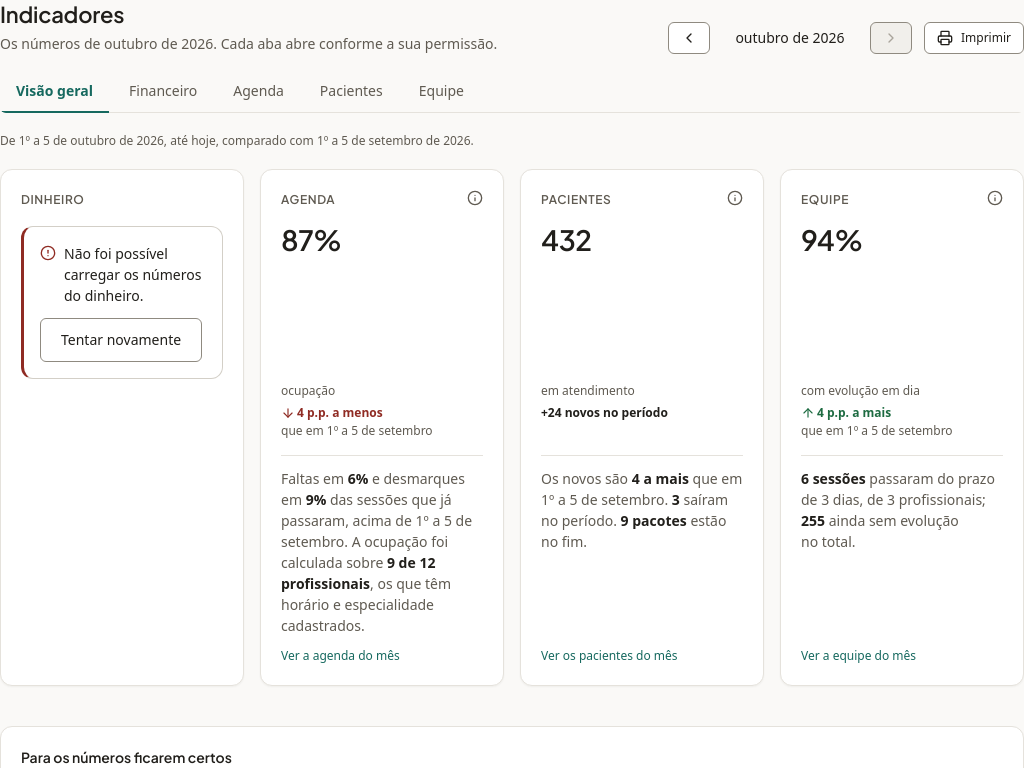
Test: Visão geral — linha do período, quatro cartões, tendência e "Pede atenção" › deve isolar o erro de um cartão, com tentar de novo, sem derrubar os outros
Expected: the text "Não foi possível carregar os números do dinheiro." is shown, x1=64 y1=243 x2=206 y2=306
Expected: the text "87%" is shown, x1=281 y1=222 x2=342 y2=257
Click the button "Tentar novamente" at (121, 340), box x1=40 y1=318 x2=202 y2=362
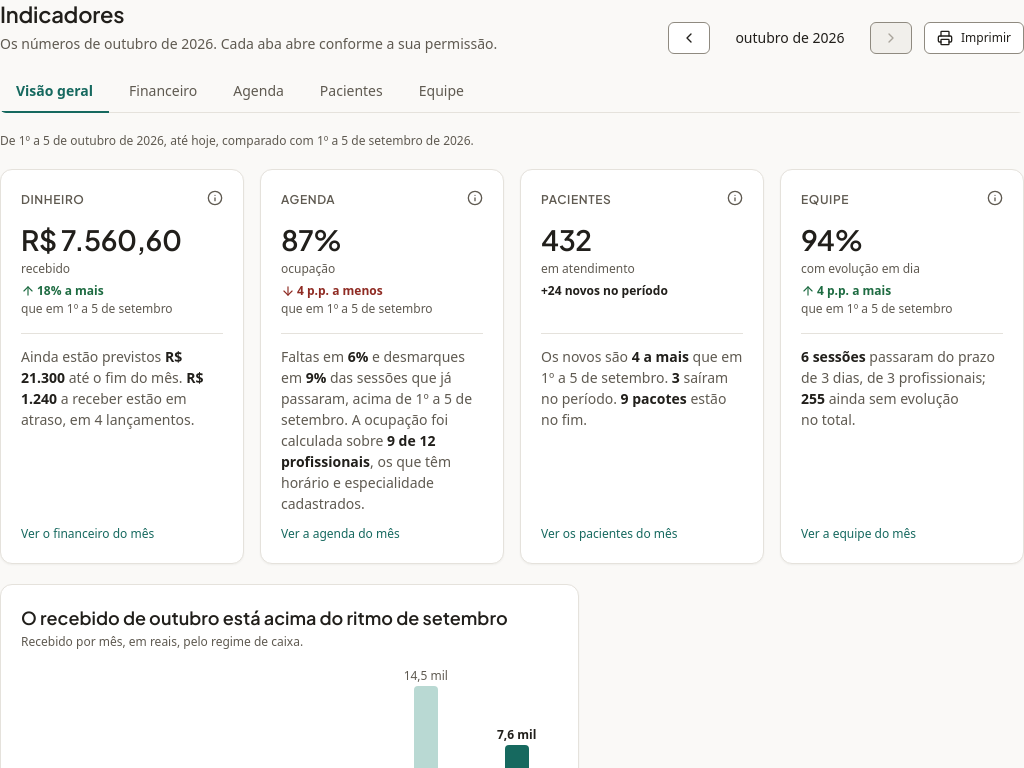
Now the text "R$ 7.560,60" is shown, box x1=21 y1=222 x2=182 y2=257
